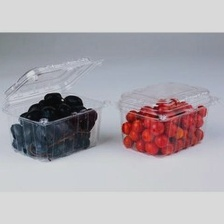plastic_box: (0, 50, 118, 168), (99, 76, 224, 164)
